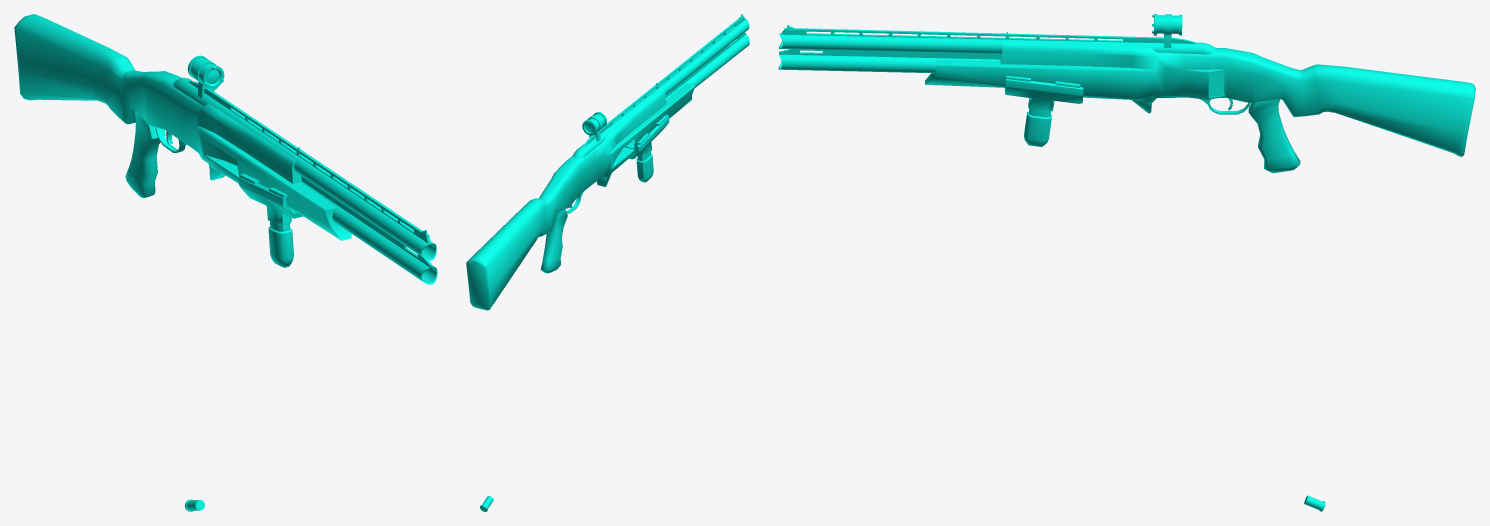
File: prop_gun_fshotgun4.FBX
3 renders of one model, left to right at view 1: azimuth 30°, elevation 25°; view 2: azimuth 150°, elevation 25°; view 3: azimuth 270°, elevation 25°, orthographic. The views are drawn at different scales.
Parts seen in each view (by area): view 1: porp_shotgun_mainother, prop_shotgun_reload, prop_shotgun_mirilla1; view 2: porp_shotgun_mainother, prop_shotgun_reload, prop_shotgun_mirilla1; view 3: porp_shotgun_mainother, prop_shotgun_reload.
Part boxes in pixels (left/top/right/bottom): porp_shotgun_mainother: left=14, top=14, right=437, bottom=284; prop_shotgun_reload: left=238, top=173, right=303, bottom=267; prop_shotgun_mirilla1: left=187, top=55, right=224, bottom=98; porp_shotgun_mainother: left=466, top=14, right=749, bottom=310; prop_shotgun_reload: left=629, top=114, right=669, bottom=182; prop_shotgun_mirilla1: left=582, top=112, right=607, bottom=141; porp_shotgun_mainother: left=778, top=25, right=1475, bottom=173; prop_shotgun_reload: left=1004, top=75, right=1083, bottom=146.
Size of the model in its own units: 15.29 by 80.77 by 110.
